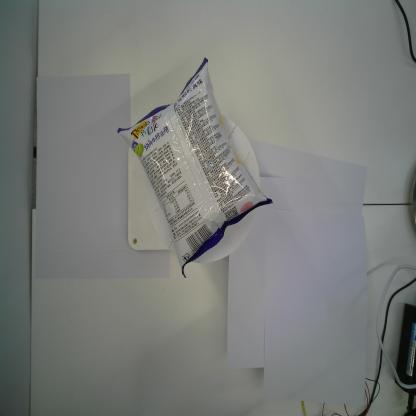Puffed Food: (116, 56, 274, 280)
